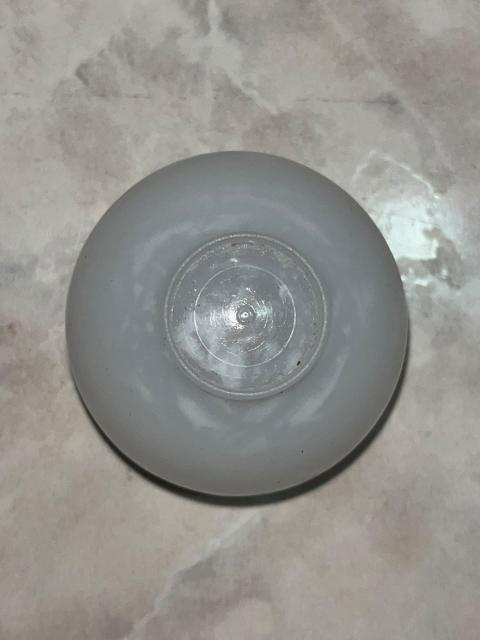HDPE: (49, 119, 415, 558)
